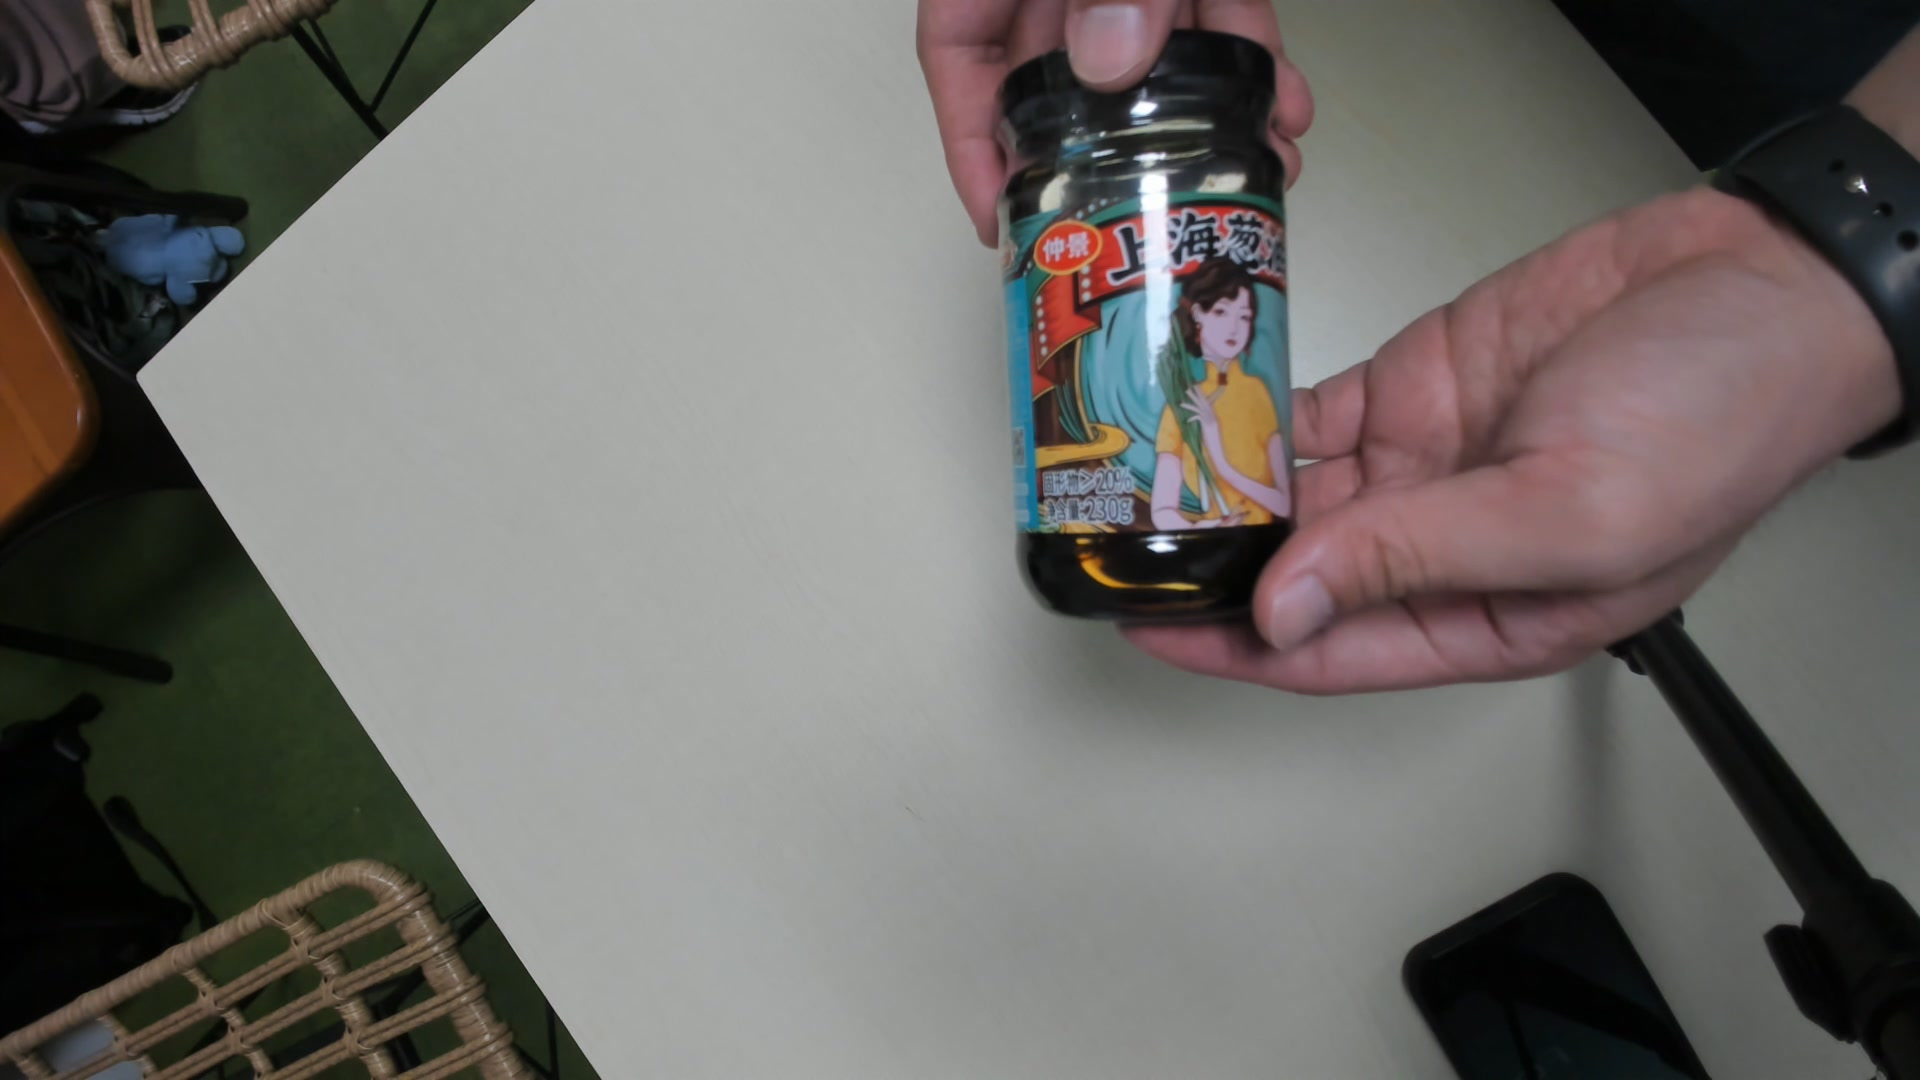OtherSauceDressing_200-299g_NonHalal_NonHealthy: (998, 41, 1296, 620)
